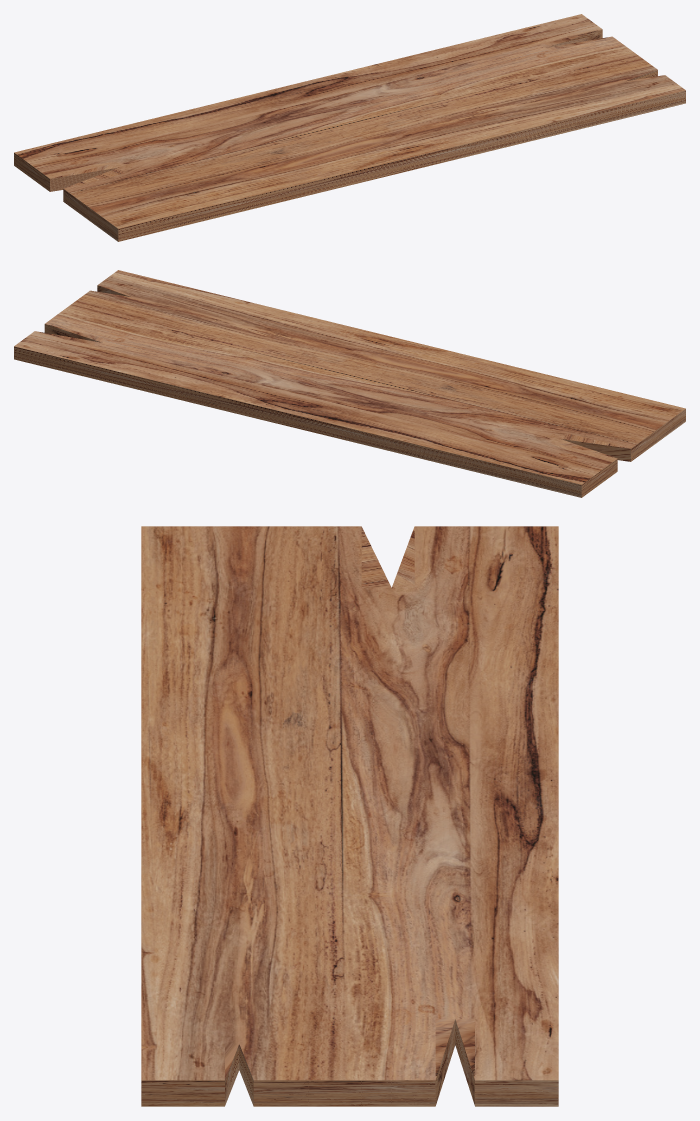
Rendered from Holz.obj.
The picture shows the model from 3 angles, top to bottom: view 1: azimuth 30°, elevation 25°; view 2: azimuth 150°, elevation 25°; view 3: azimuth 270°, elevation 25°; orthographic projection. The views are drawn at different scales.
Parts seen in each view (by area): view 1: W?rfel; view 2: W?rfel; view 3: W?rfel.
Part boxes in pixels (box(x1,y1,x2,y2)): W?rfel: box(14, 14, 685, 241); W?rfel: box(14, 270, 685, 497); W?rfel: box(141, 526, 558, 1106).
Size of the model in its own units: 344 by 7.6 by 109.
1 material, 1 textured.
